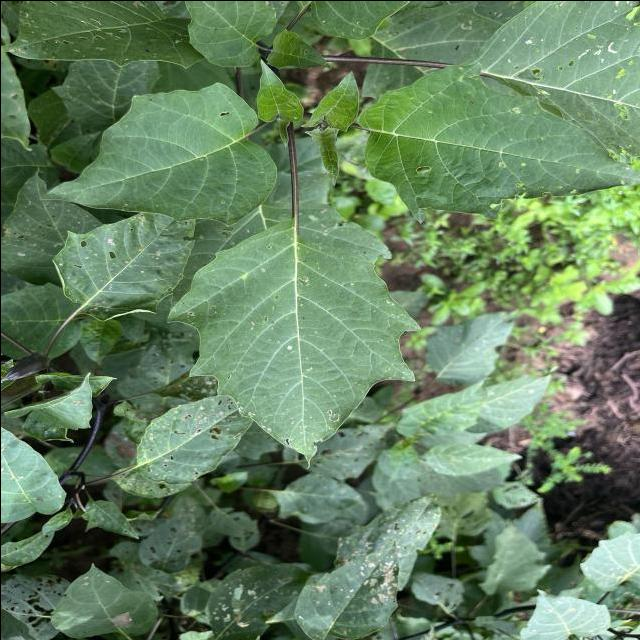Datura metal linn: (162, 214, 426, 474), (353, 56, 640, 225), (32, 79, 279, 229)
